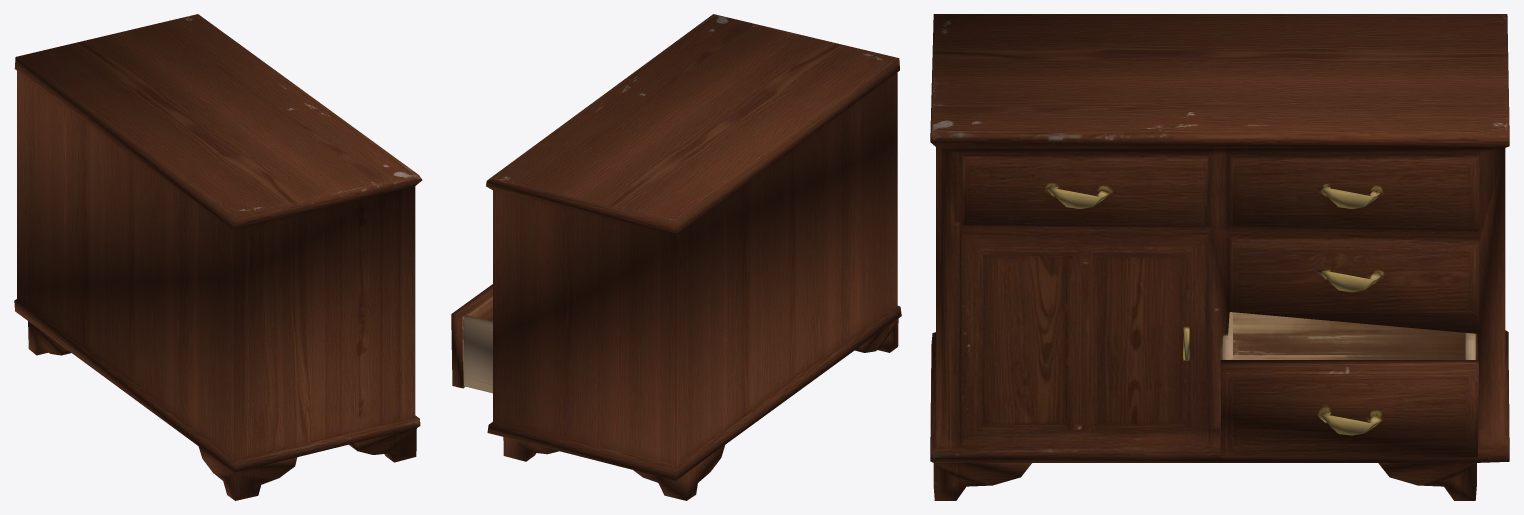
The model's file is Furn_Sideboard_Dining.glb.
3 renders of one model, left to right at view 1: azimuth 30°, elevation 25°; view 2: azimuth 150°, elevation 25°; view 3: azimuth 270°, elevation 25°, orthographic. The views are drawn at different scales.
Visible parts, largest first — view 1: tripo_node_33f43652-0ad4-4cdf-91da-933a81bfb4e2; view 2: tripo_node_33f43652-0ad4-4cdf-91da-933a81bfb4e2; view 3: tripo_node_33f43652-0ad4-4cdf-91da-933a81bfb4e2.
Part boxes in pixels (<box>): tripo_node_33f43652-0ad4-4cdf-91da-933a81bfb4e2: <box>14,14,422,500</box>; tripo_node_33f43652-0ad4-4cdf-91da-933a81bfb4e2: <box>451,14,901,500</box>; tripo_node_33f43652-0ad4-4cdf-91da-933a81bfb4e2: <box>930,14,1509,500</box>.
Size of the model in its own units: 0.6711 by 0.75 by 1.06.
1 material, 1 textured.
